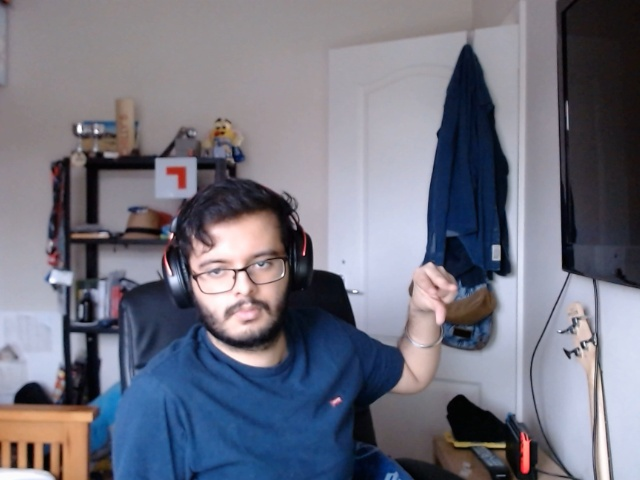No: (390, 254, 471, 346)
